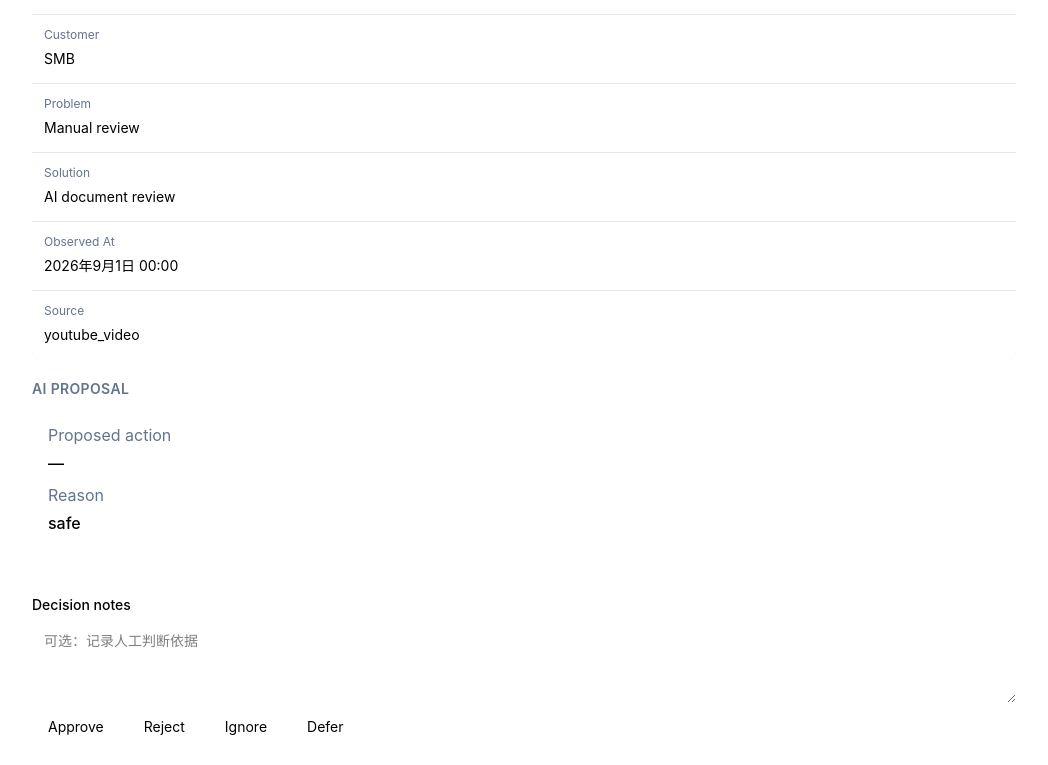
Test: Admin review workspace › shows 422/404 safely and never exposes raw context
The width and height of the screenshot is (1048, 765).
(page scrolled)
Click the button "Approve": (76, 726) [32,708,120,744]
(page scrolled)
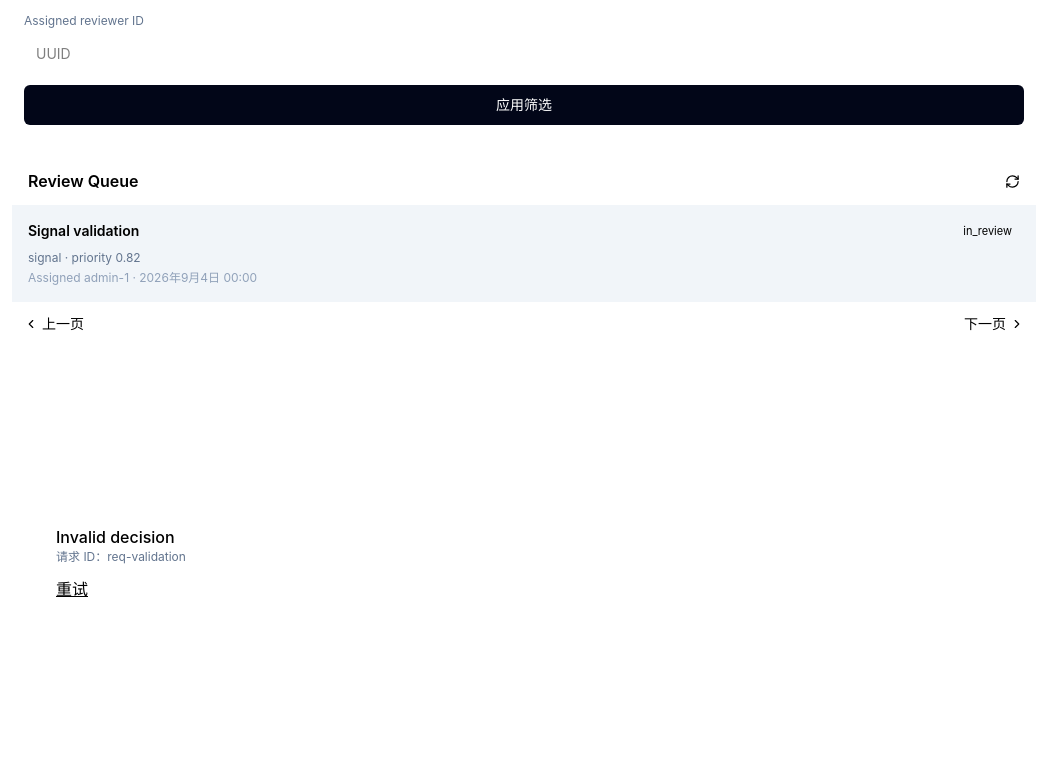
Now the message shows "Invalid decision", box [56,527,175,547]
Now the message shows "req-validation", box [107,549,186,564]
